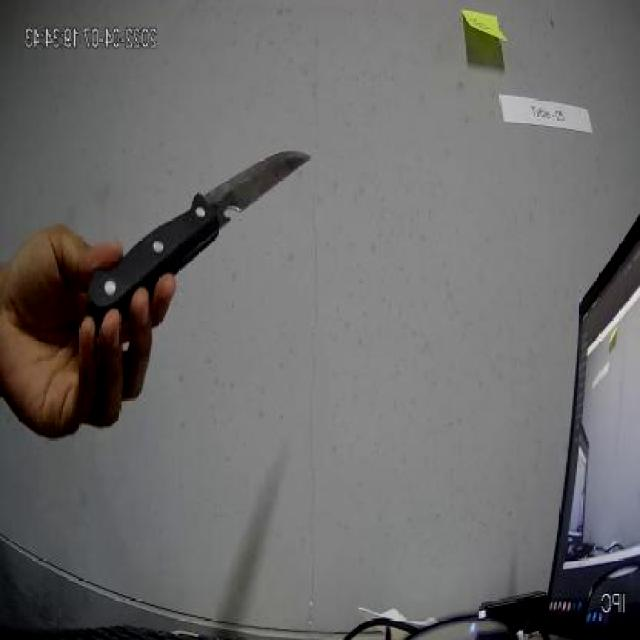knife: (80, 148, 315, 320)
